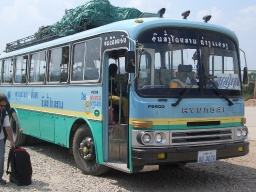truck: (2, 9, 253, 174)
